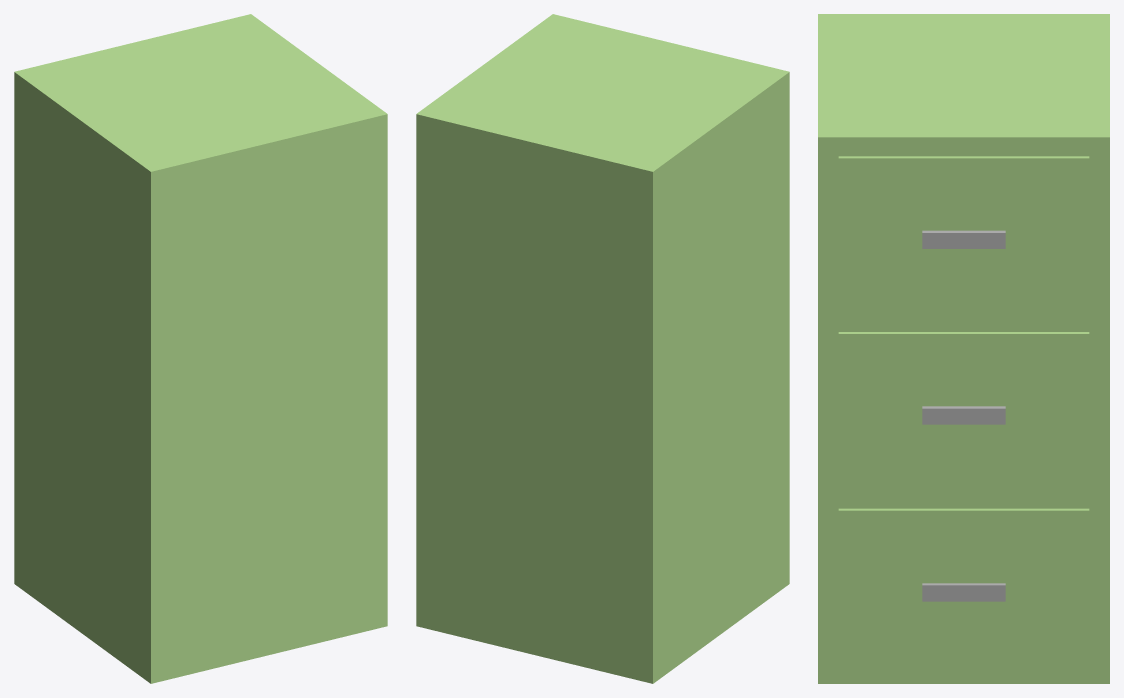
The model's file is filing_cabinet.glb.
The picture shows the model from 3 angles, left to right: view 1: azimuth 30°, elevation 25°; view 2: azimuth 150°, elevation 25°; view 3: azimuth 270°, elevation 25°; orthographic projection. The views are drawn at different scales.
Parts seen in each view (by area): view 1: Cube; view 2: Cube; view 3: Cube, Drawer.001, Drawer.003, Drawer.002.
Part boxes in pixels (x1,y1,x2,y2): Cube: [14, 14, 387, 683]; Cube: [416, 14, 789, 683]; Cube: [818, 14, 1109, 683]; Drawer.001: [838, 156, 1089, 319]; Drawer.003: [838, 508, 1089, 671]; Drawer.002: [838, 332, 1089, 494].
Size of the model in its own units: 1.36 by 2.72 by 1.32.
